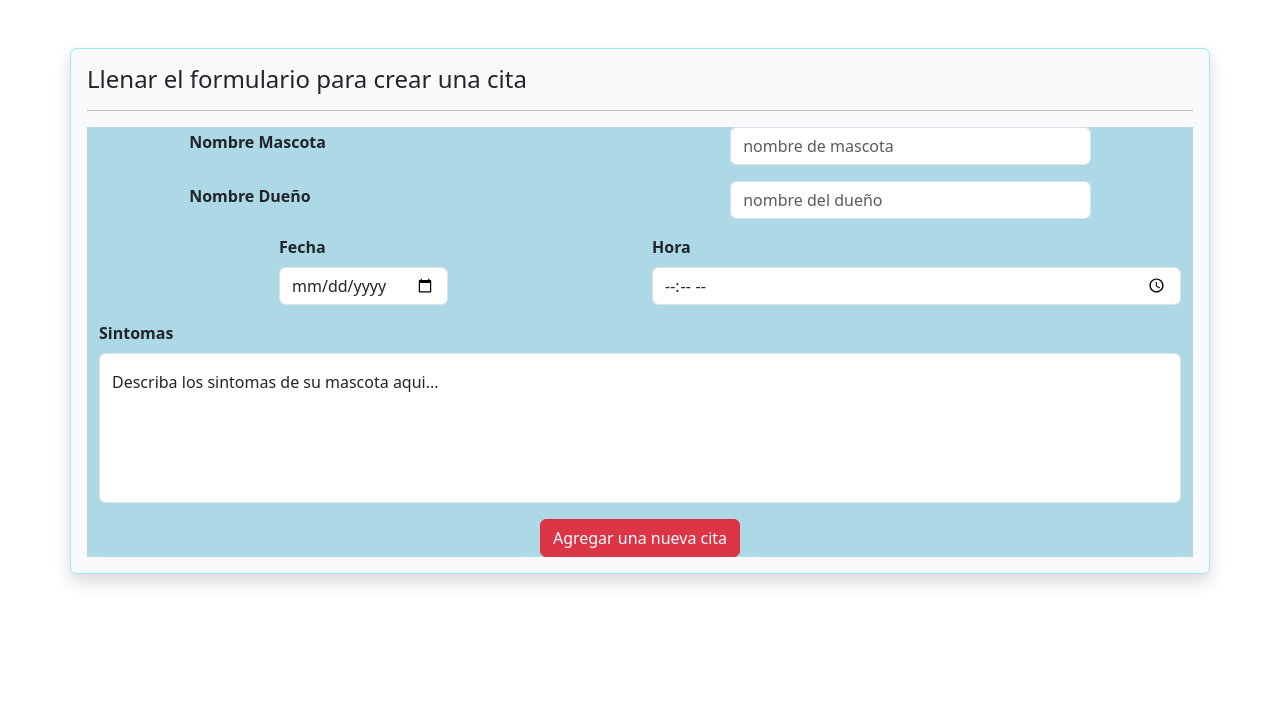
Scenario: Formulario Veterinaria › Deberia mostrar los mensajes de error si se envia el formulario vacio
Step 1. Click the submit button → (640, 538), box x1=540 y1=519 x2=740 y2=557
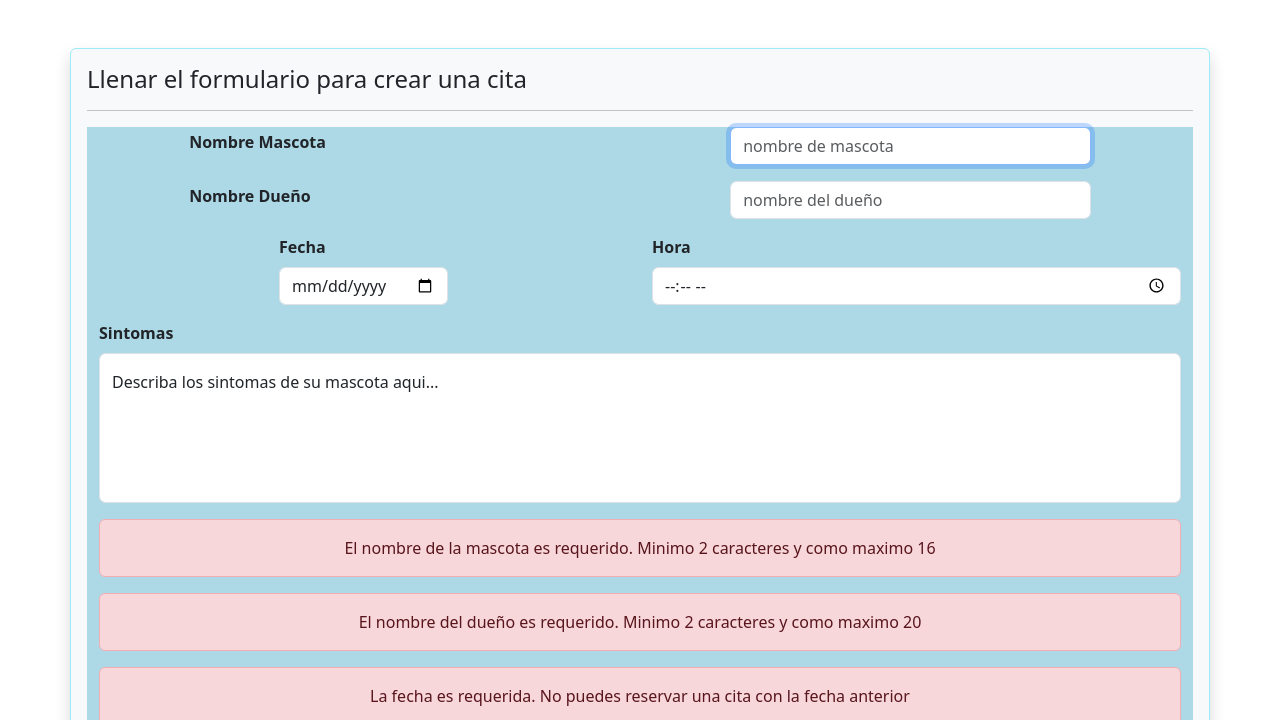
Check: the text "El nombre de la mascota es requerido" is shown, box x1=344 y1=537 x2=637 y2=559
Check: the text "El nombre del dueño es requerido" is shown, box x1=359 y1=611 x2=623 y2=633
Check: the text "La fecha es requerida" is shown, box x1=370 y1=685 x2=540 y2=707
